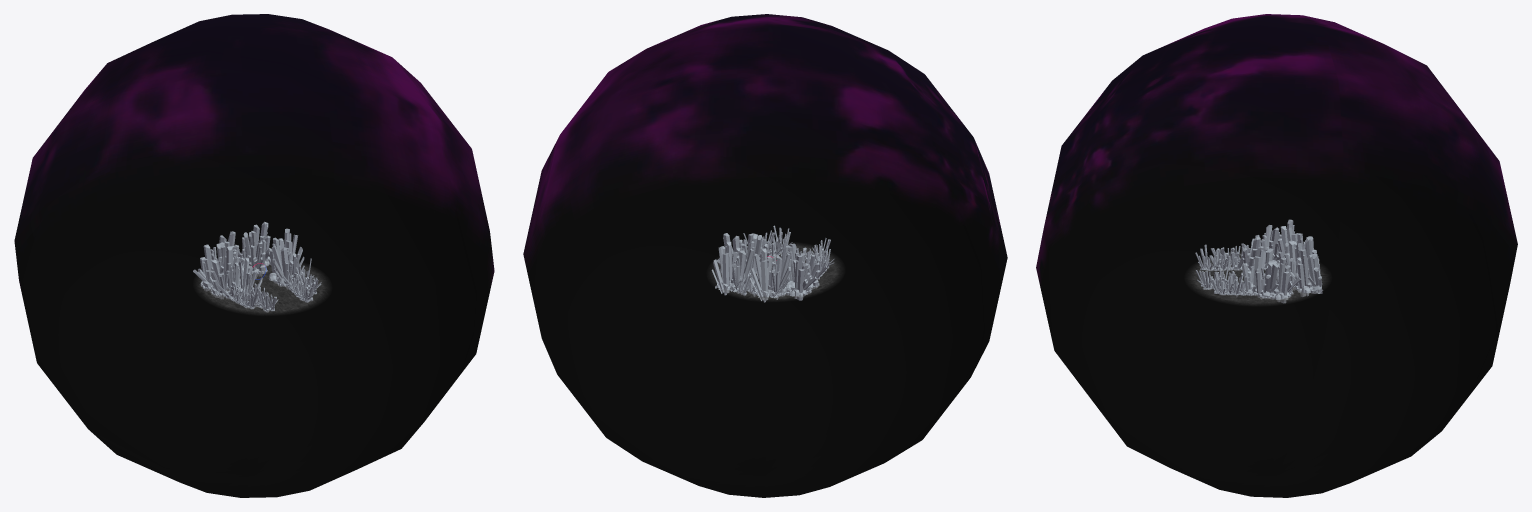
File: combinestage-v2-transformed.glb
3 renders of one model, left to right at view 1: azimuth 30°, elevation 25°; view 2: azimuth 150°, elevation 25°; view 3: azimuth 270°, elevation 25°, orthographic.
Parts seen in each view (by area): view 1: Cylinder.067; view 2: Cylinder.067; view 3: Cylinder.067.
Boxes of the visible parts, x1,y1,x2,y2 form: Cylinder.067: [14, 14, 494, 497]; Cylinder.067: [523, 14, 1007, 497]; Cylinder.067: [1036, 14, 1517, 497].
Bounding box in the file's own units: 94.62 × 95.24 × 94.62.
Materials: 4 (3 with a texture image).
